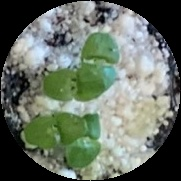Basil: (83, 32, 120, 94), (39, 66, 107, 99), (26, 111, 83, 147), (68, 113, 101, 168)
